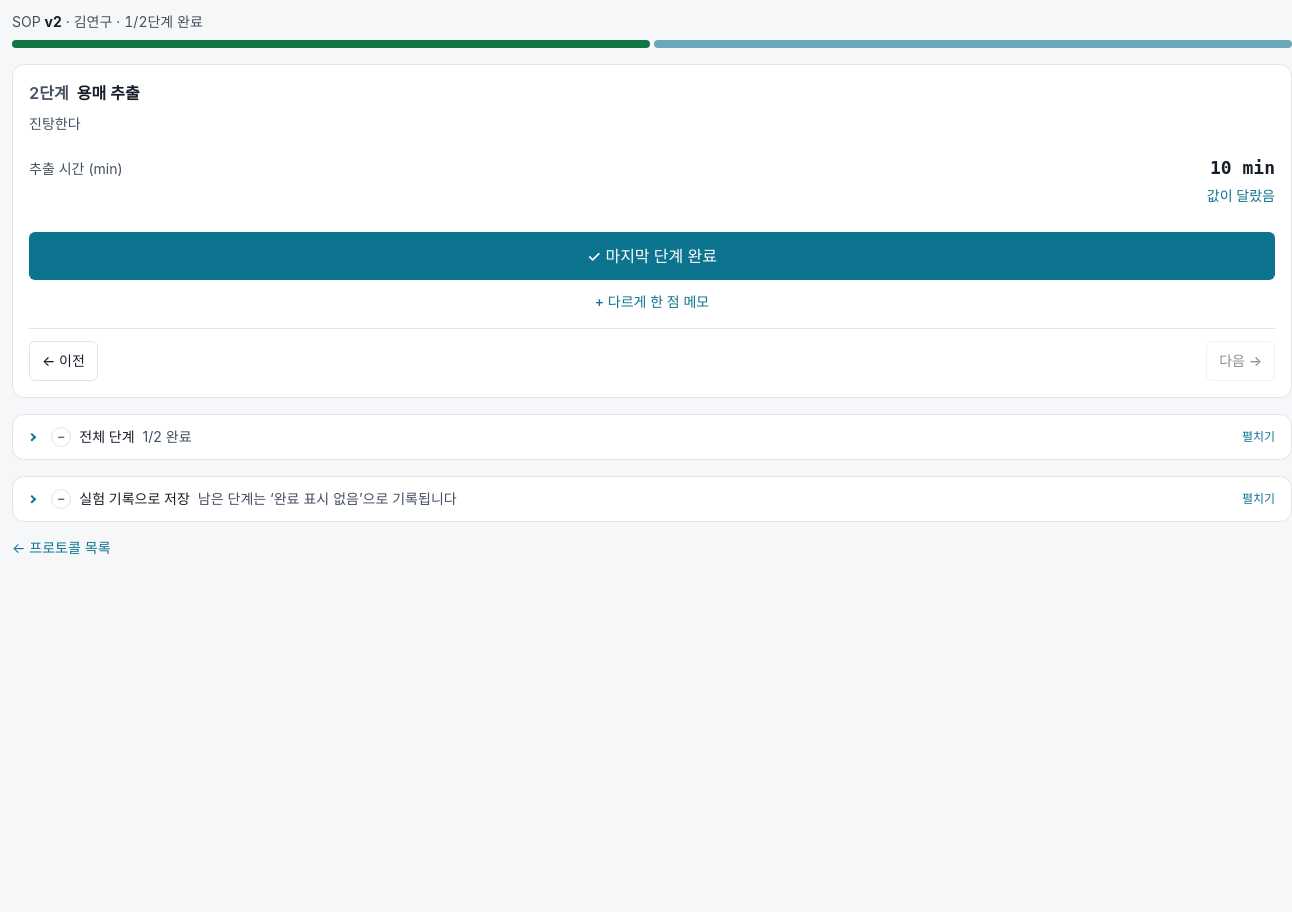
RunView › shows the current step's planned value and records a different actual value
The width and height of the screenshot is (1292, 912).
Expected: the text "용매 추출" is shown, [77,81,140,105]
Expected: the text "10 min" is shown, [1210,157,1275,178]
Click the button "값이 달랐음" at [1241, 196], box [1207,186,1275,206]
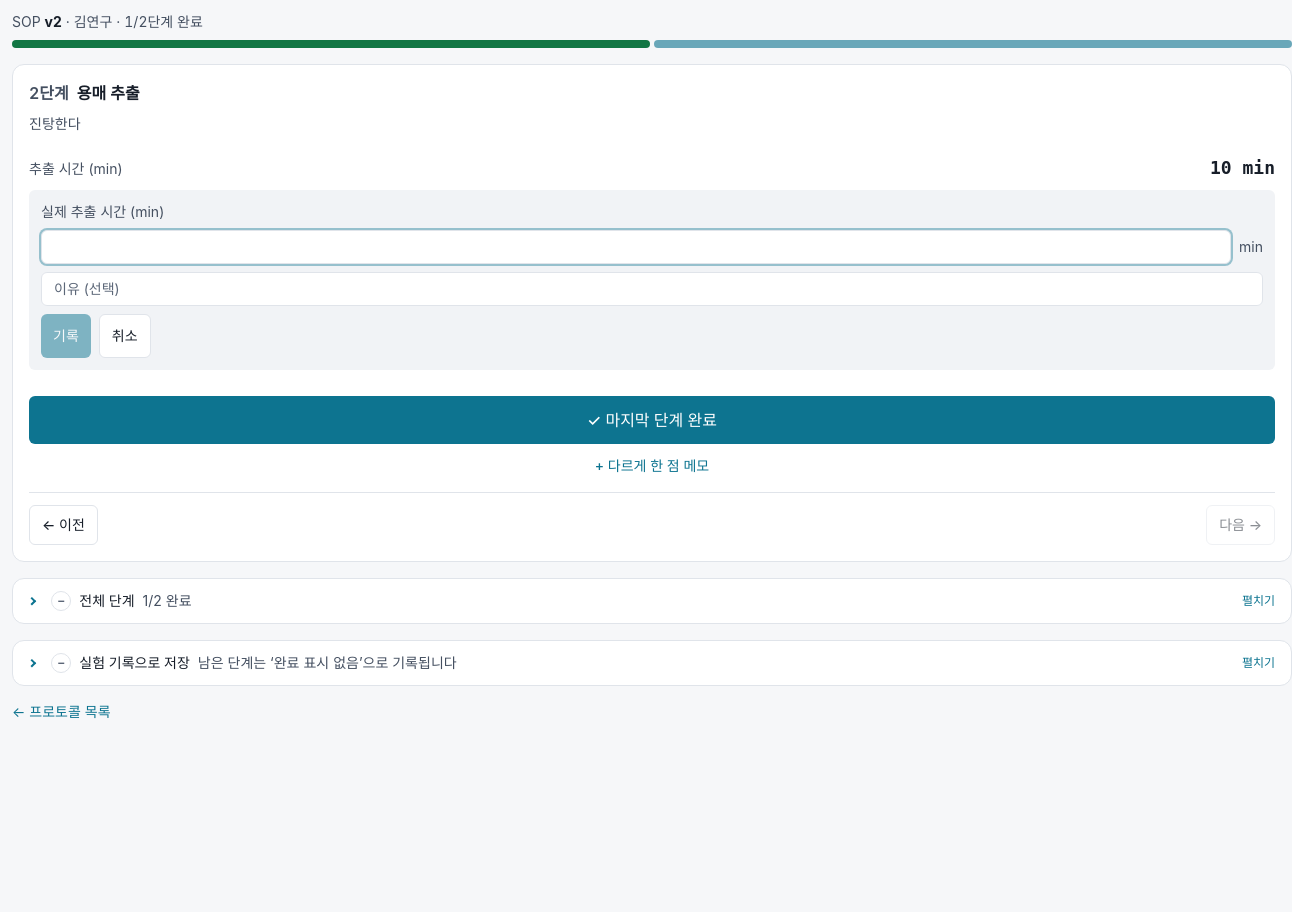
Type "7" into the field labelled "실제 추출 시간 (min)" at [636, 247], box [41,230,1231,264]
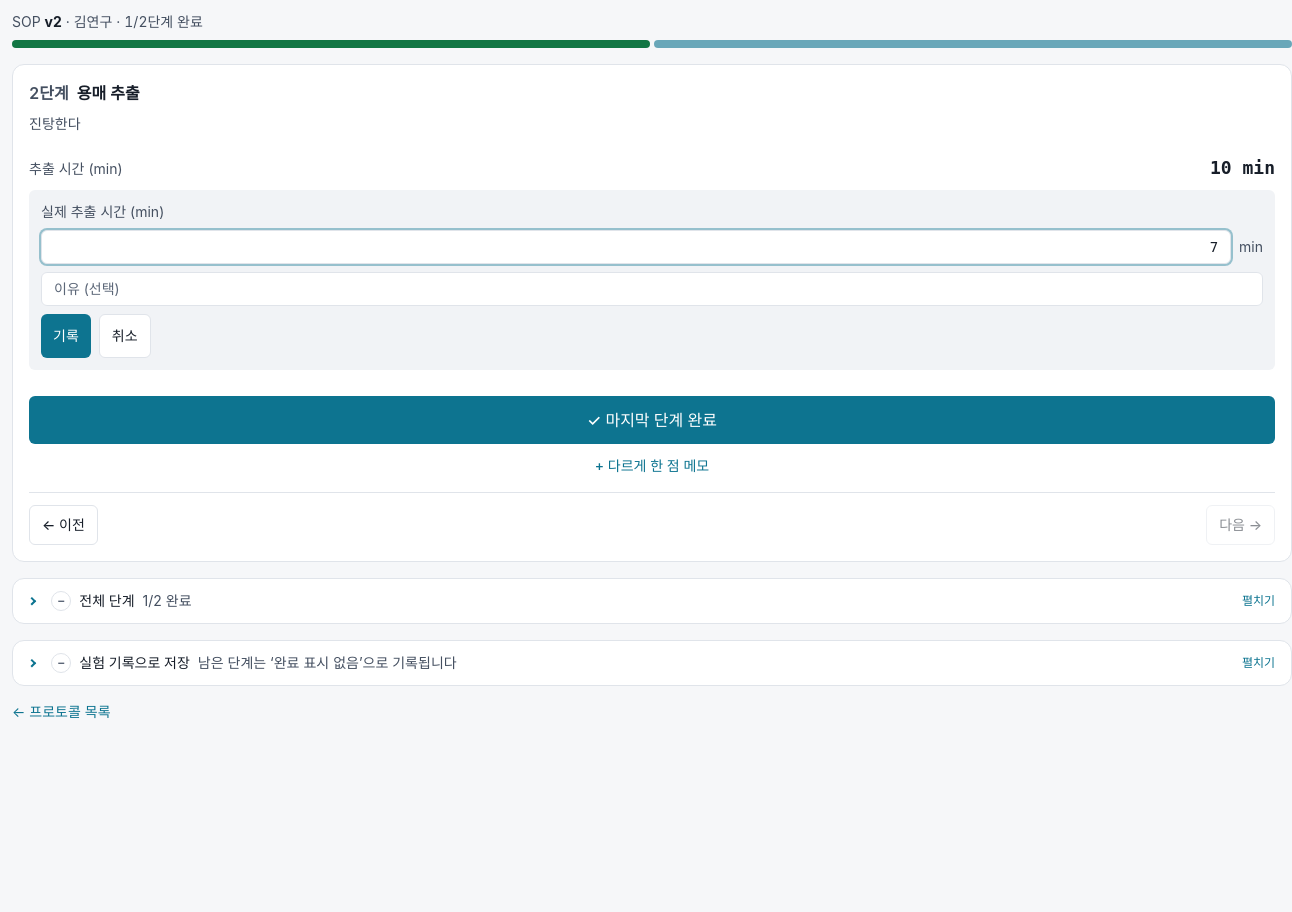
Type "타이머" into the field labelled "이유 (선택)" at [652, 289], box [41,272,1263,306]
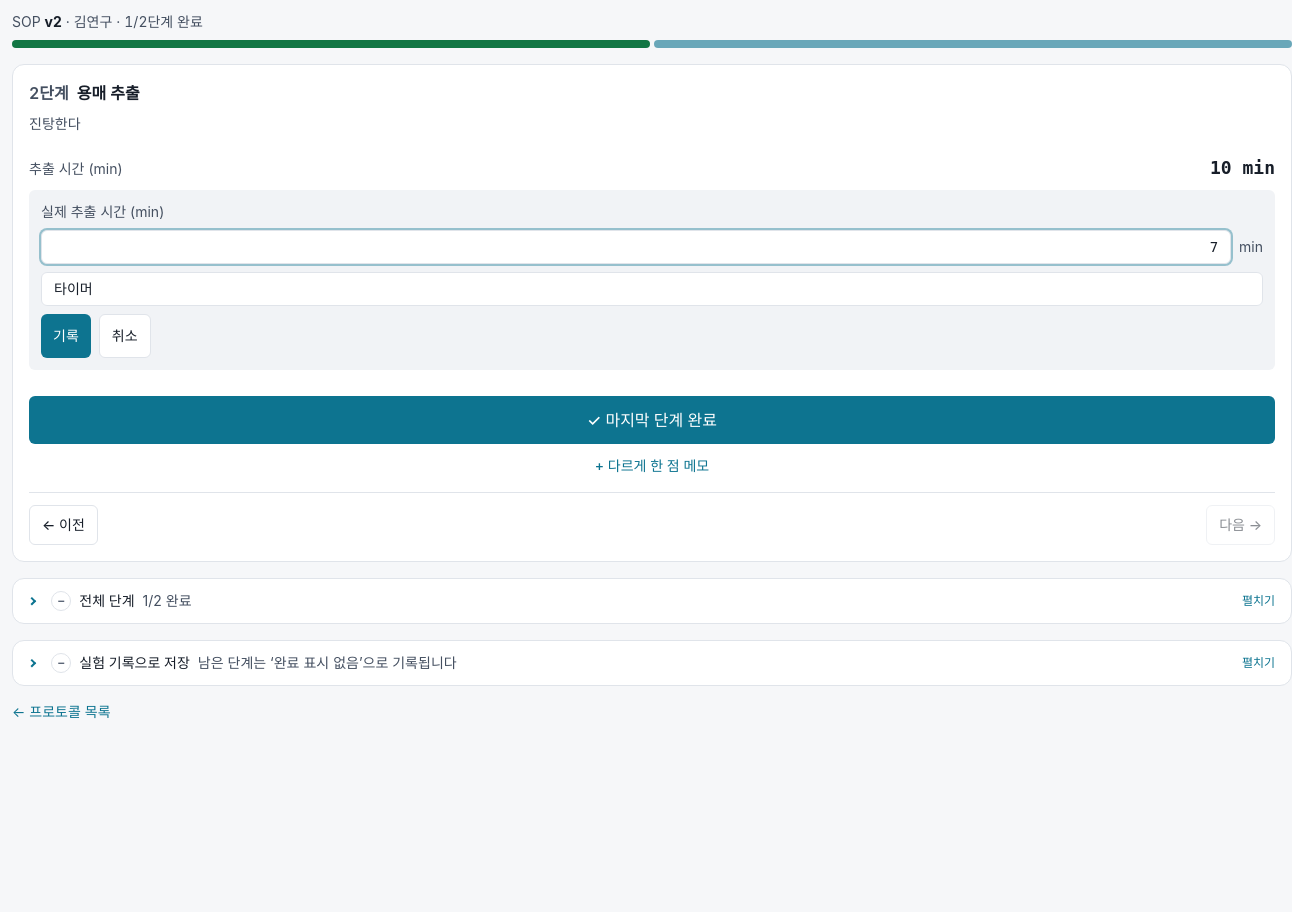
Click the button "기록" at [66, 336], box [41,314,91,358]
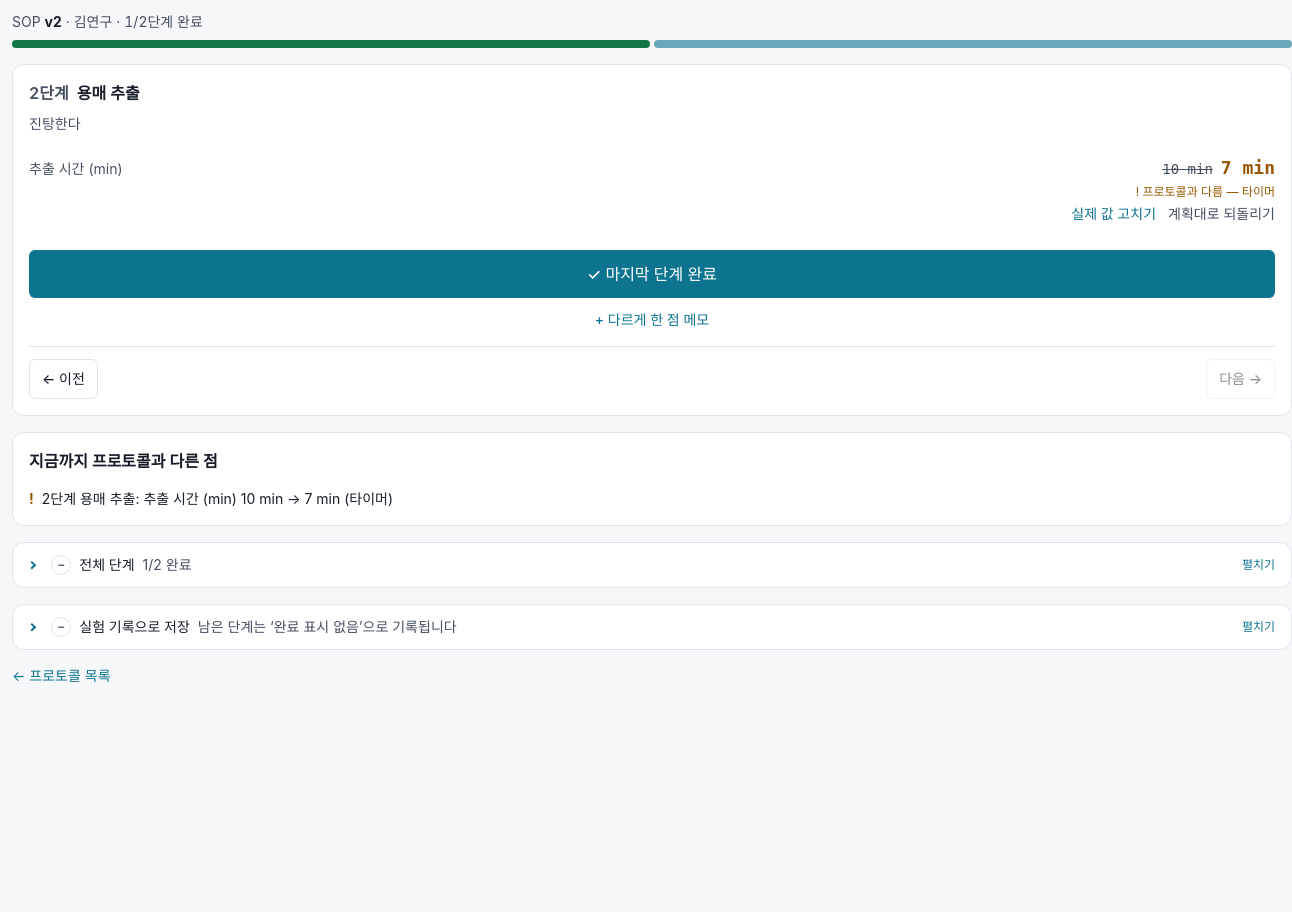
Now the text "! 프로토콜과 다름 — 타이머" is shown, box [1136,184,1275,199]
Now the text "2단계 용매 추출: 추출 시간 (min) 10 min → 7 min (타이머)" is shown, box [42,489,393,509]
